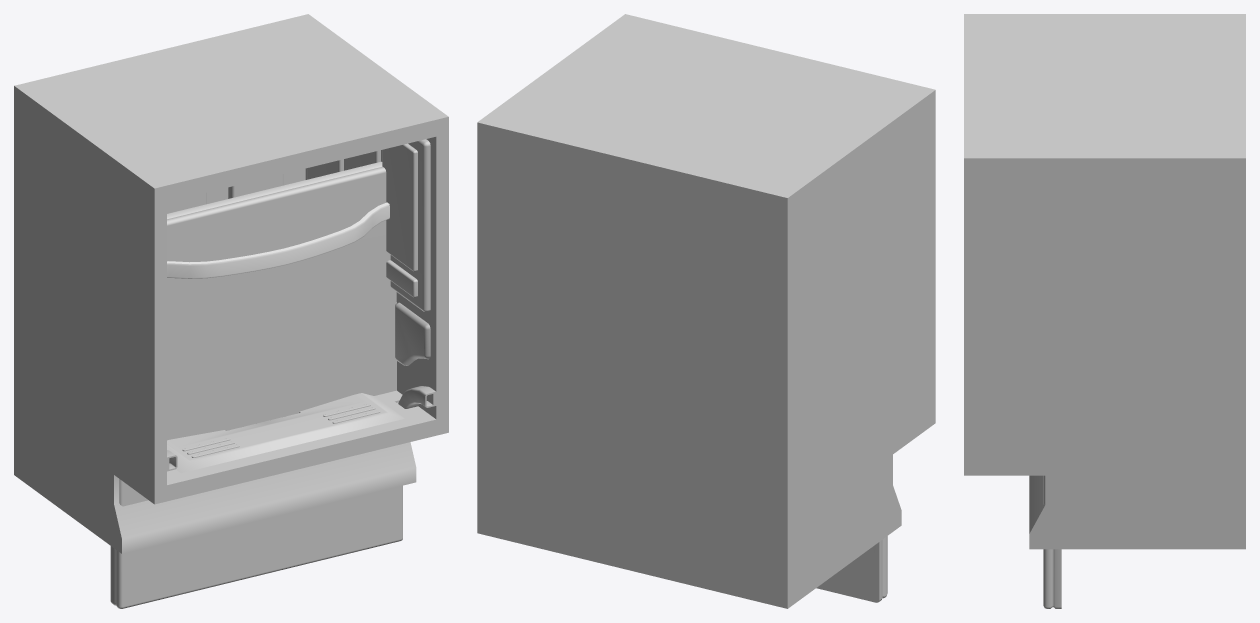
File: dishwasher_FP10.obj
The picture shows the model from 3 angles, left to right: view 1: azimuth 30°, elevation 25°; view 2: azimuth 150°, elevation 25°; view 3: azimuth 270°, elevation 25°; orthographic projection. The views are drawn at different scales.
Parts seen in each view (by area): view 1: dishwasher_FP10_f06b5827, dishwasher_door_FP10_88372af3; view 2: dishwasher_FP10_f06b5827, dishwasher_door_FP10_88372af3; view 3: dishwasher_FP10_f06b5827, dishwasher_door_FP10_88372af3.
Boxes of the visible parts, x1,y1,x2,y2 form: dishwasher_FP10_f06b5827: (14, 14, 448, 553); dishwasher_door_FP10_88372af3: (110, 161, 402, 608); dishwasher_FP10_f06b5827: (477, 14, 935, 608); dishwasher_door_FP10_88372af3: (816, 536, 887, 602); dishwasher_FP10_f06b5827: (964, 14, 1245, 549); dishwasher_door_FP10_88372af3: (1043, 475, 1061, 608).
Bounding box in the file's own units: 0.6724 × 0.9881 × 0.5555.
